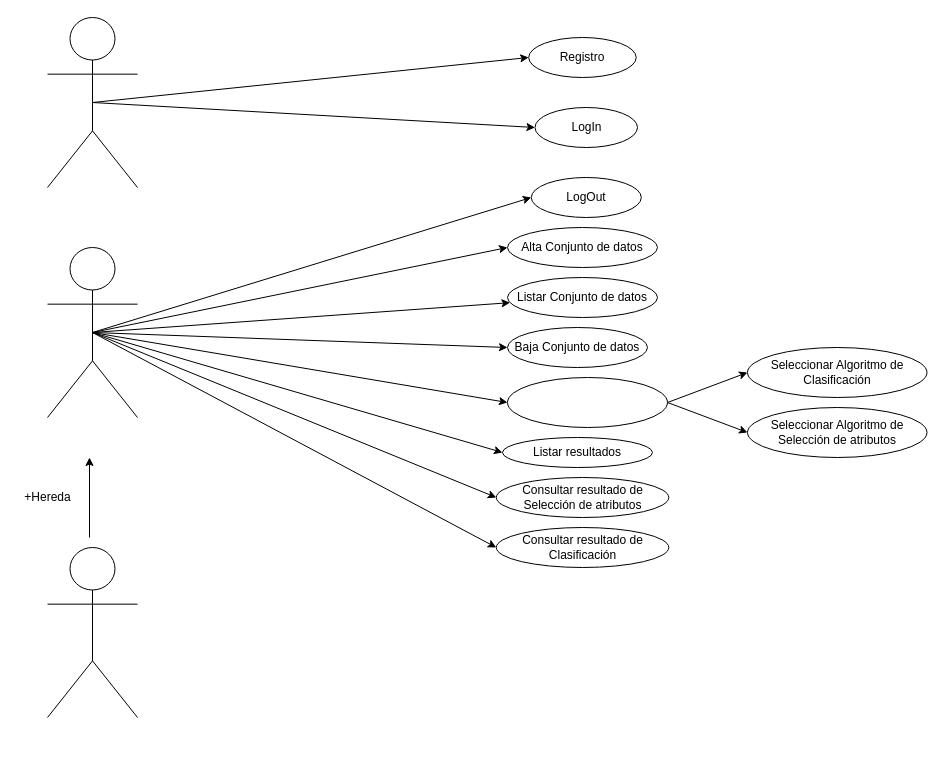
Image size: 944x771. Some labels were removed from this diagram. The centre of each missing label's shape, as x and y in pixels:
Administrador: the point at 92,632
Invitado: the point at 92,102
Seleccionar conjunto de datos a procesar: the point at 587,402
Usuario: the point at 92,332
